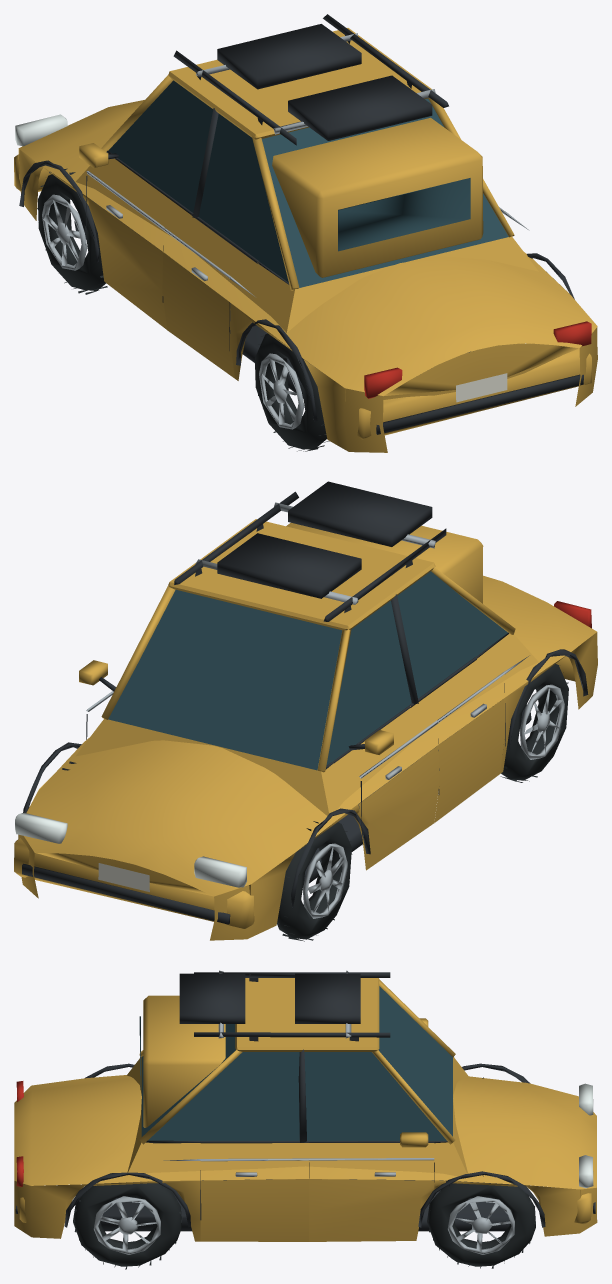
The picture shows the model from 3 angles, top to bottom: view 1: azimuth 30°, elevation 25°; view 2: azimuth 150°, elevation 25°; view 3: azimuth 270°, elevation 25°; orthographic projection. The views are drawn at different scales.
Visible parts, largest first — view 1: utility_car_body, utility_car_front_left_door, utility_car_rear_left_door, utility_car_rear_left_wheel, utility_car_front_left_wheel; view 2: utility_car_body, utility_car_front_left_door, utility_car_rear_left_door, utility_car_front_left_wheel, utility_car_rear_left_wheel, utility_car_front_right_door; view 3: utility_car_body, utility_car_front_right_door, utility_car_rear_right_door, utility_car_rear_right_wheel, utility_car_front_right_wheel.
Boxes of the visible parts, bbox=[...] form: utility_car_body: bbox=[14, 14, 597, 452]; utility_car_front_left_door: bbox=[79, 80, 212, 329]; utility_car_rear_left_door: bbox=[162, 109, 269, 378]; utility_car_rear_left_wheel: bbox=[254, 333, 329, 451]; utility_car_front_left_wheel: bbox=[37, 168, 112, 294]; utility_car_body: bbox=[14, 481, 597, 940]; utility_car_front_left_door: bbox=[329, 602, 439, 870]; utility_car_rear_left_door: bbox=[389, 571, 505, 822]; utility_car_front_left_wheel: bbox=[277, 821, 352, 941]; utility_car_rear_left_wheel: bbox=[500, 663, 568, 782]; utility_car_front_right_door: bbox=[79, 660, 116, 739]; utility_car_body: bbox=[14, 970, 597, 1241]; utility_car_front_right_door: bbox=[309, 1052, 434, 1241]; utility_car_rear_right_door: bbox=[200, 1052, 309, 1241]; utility_car_rear_right_wheel: bbox=[73, 1181, 182, 1269]; utility_car_front_right_wheel: bbox=[427, 1175, 535, 1268].
Bounding box in the file's own units: 1.69 × 1.49 × 3.49.
